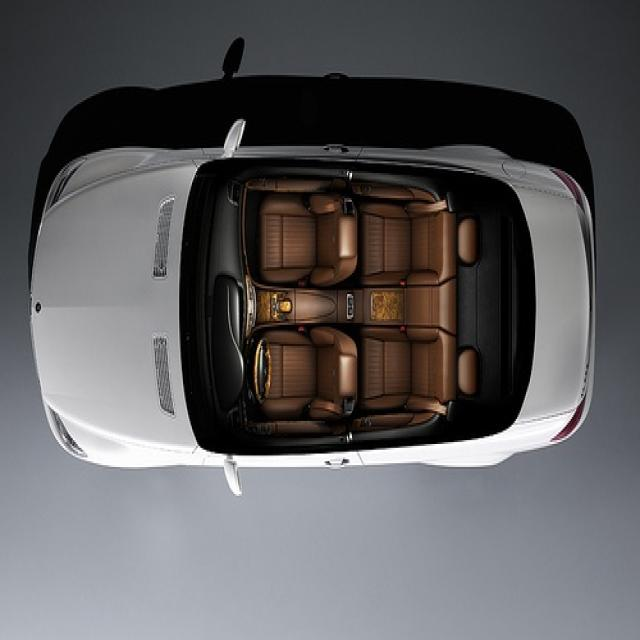car: (28, 115, 598, 496)
